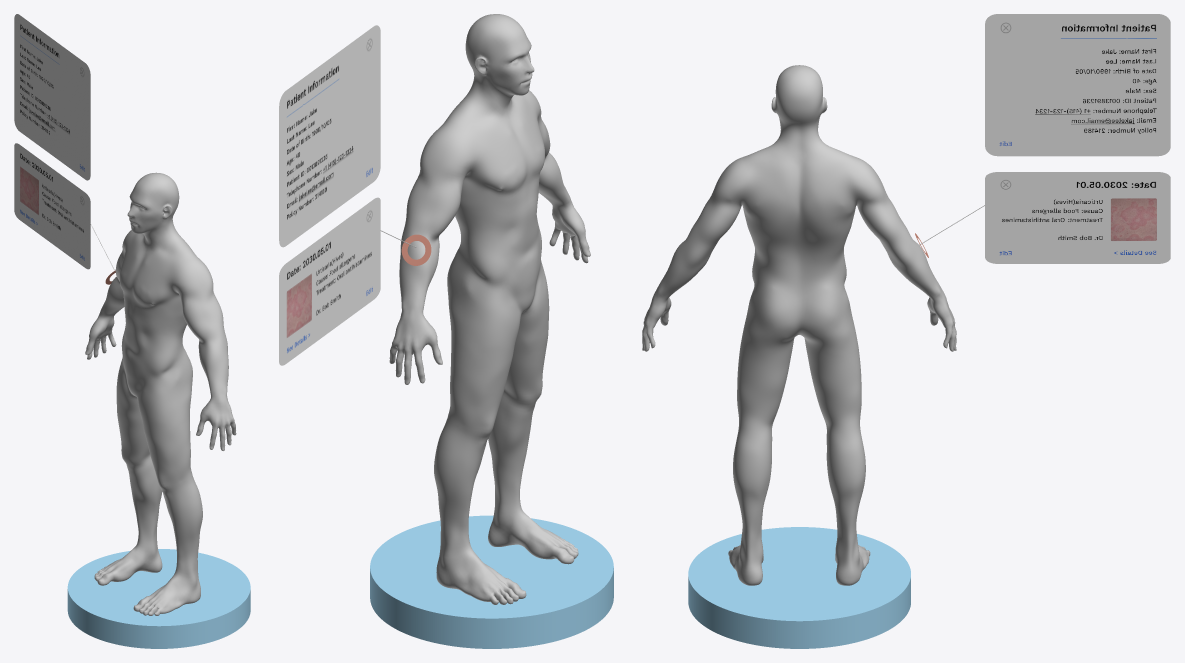
File: malebody.gltf
3 renders of one model, left to right at view 1: azimuth 30°, elevation 25°; view 2: azimuth 150°, elevation 25°; view 3: azimuth 270°, elevation 25°, orthographic. The views are drawn at different scales.
Parts seen in each view (by area): view 1: FinalBaseMesh.003, Cylinder.001, Plane.016, Plane.015; view 2: FinalBaseMesh.003, Cylinder.001, Plane.016, Plane.015, Torus; view 3: FinalBaseMesh.003, Plane.016, Cylinder.001, Plane.015.
Part boxes in pixels (left/top/right/bottom): FinalBaseMesh.003: left=85, top=172, right=236, bottom=615; Cylinder.001: left=67, top=549, right=250, bottom=648; Plane.016: left=14, top=14, right=90, bottom=180; Plane.015: left=14, top=143, right=90, bottom=269; FinalBaseMesh.003: left=389, top=14, right=590, bottom=604; Cylinder.001: left=370, top=515, right=613, bottom=648; Plane.016: left=279, top=25, right=380, bottom=247; Plane.015: left=279, top=197, right=380, bottom=365; Torus: left=401, top=234, right=431, bottom=265; FinalBaseMesh.003: left=642, top=65, right=956, bottom=585; Plane.016: left=985, top=14, right=1170, bottom=156; Cylinder.001: left=688, top=527, right=910, bottom=648; Plane.015: left=985, top=172, right=1170, bottom=263.
Size of the model in its own units: 19.31 by 56.64 by 45.81.
Materials: 6 (2 with a texture image).
